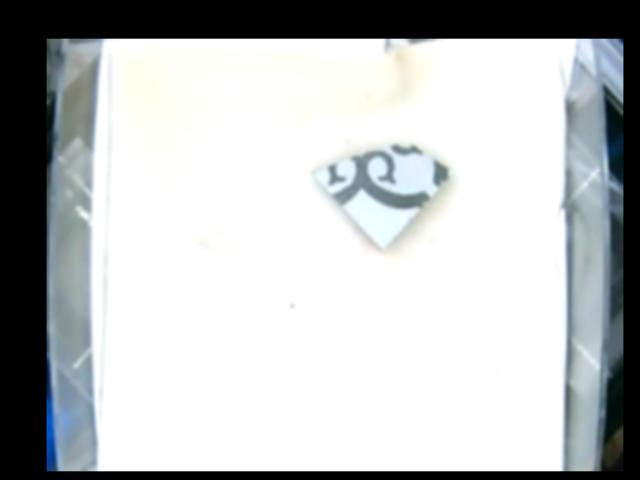China: (312, 138, 450, 249)
